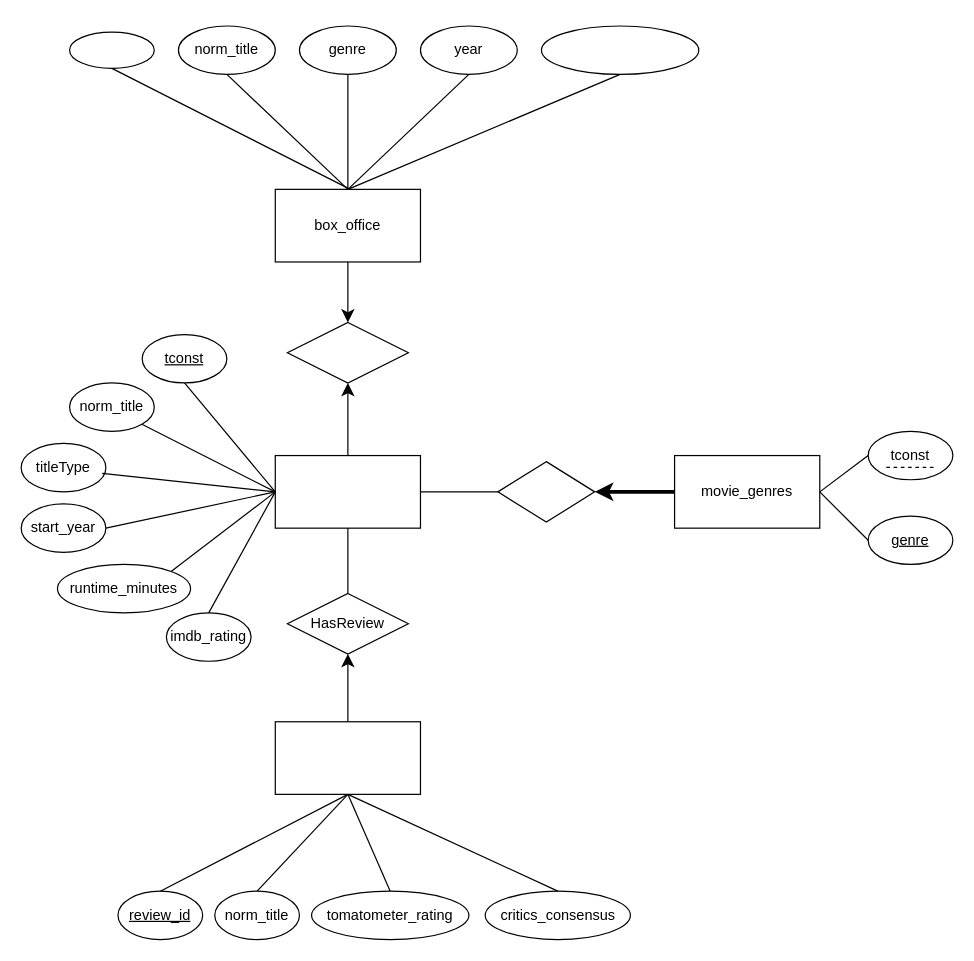
Image size: 974x961. Some labels were removed from this diagram. The box of each missing label's shape, as (x1, y1, x2, y2) in pixels:
box_id: (68, 31, 154, 68)
HasBoxOffice: (286, 321, 408, 383)
HasGenre: (497, 460, 595, 522)
movies: (274, 454, 420, 528)
rt_reviews: (274, 721, 420, 794)
worldwide_revenue: (540, 25, 699, 74)
